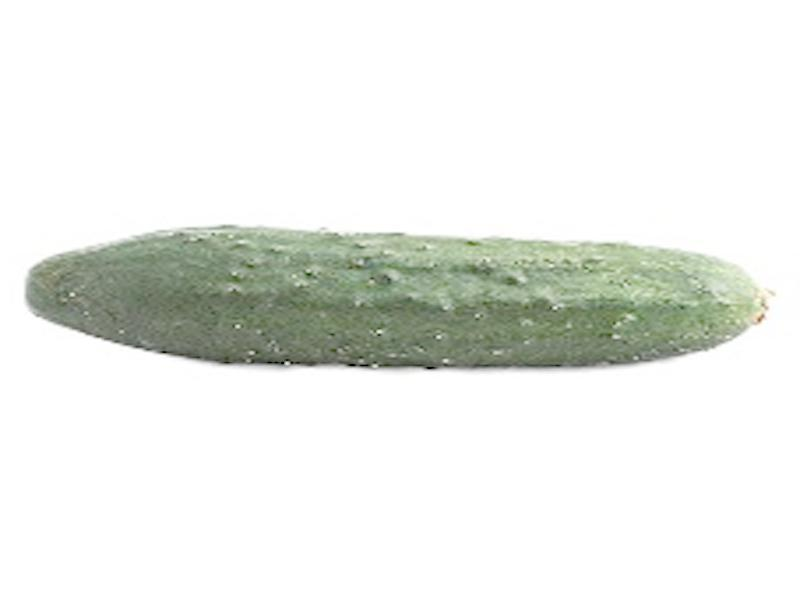Cucumber: (24, 227, 771, 367)
